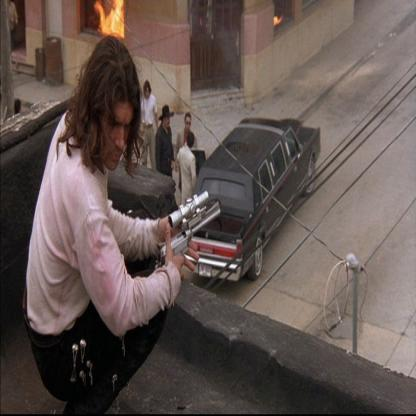gun: (147, 169, 216, 273)
